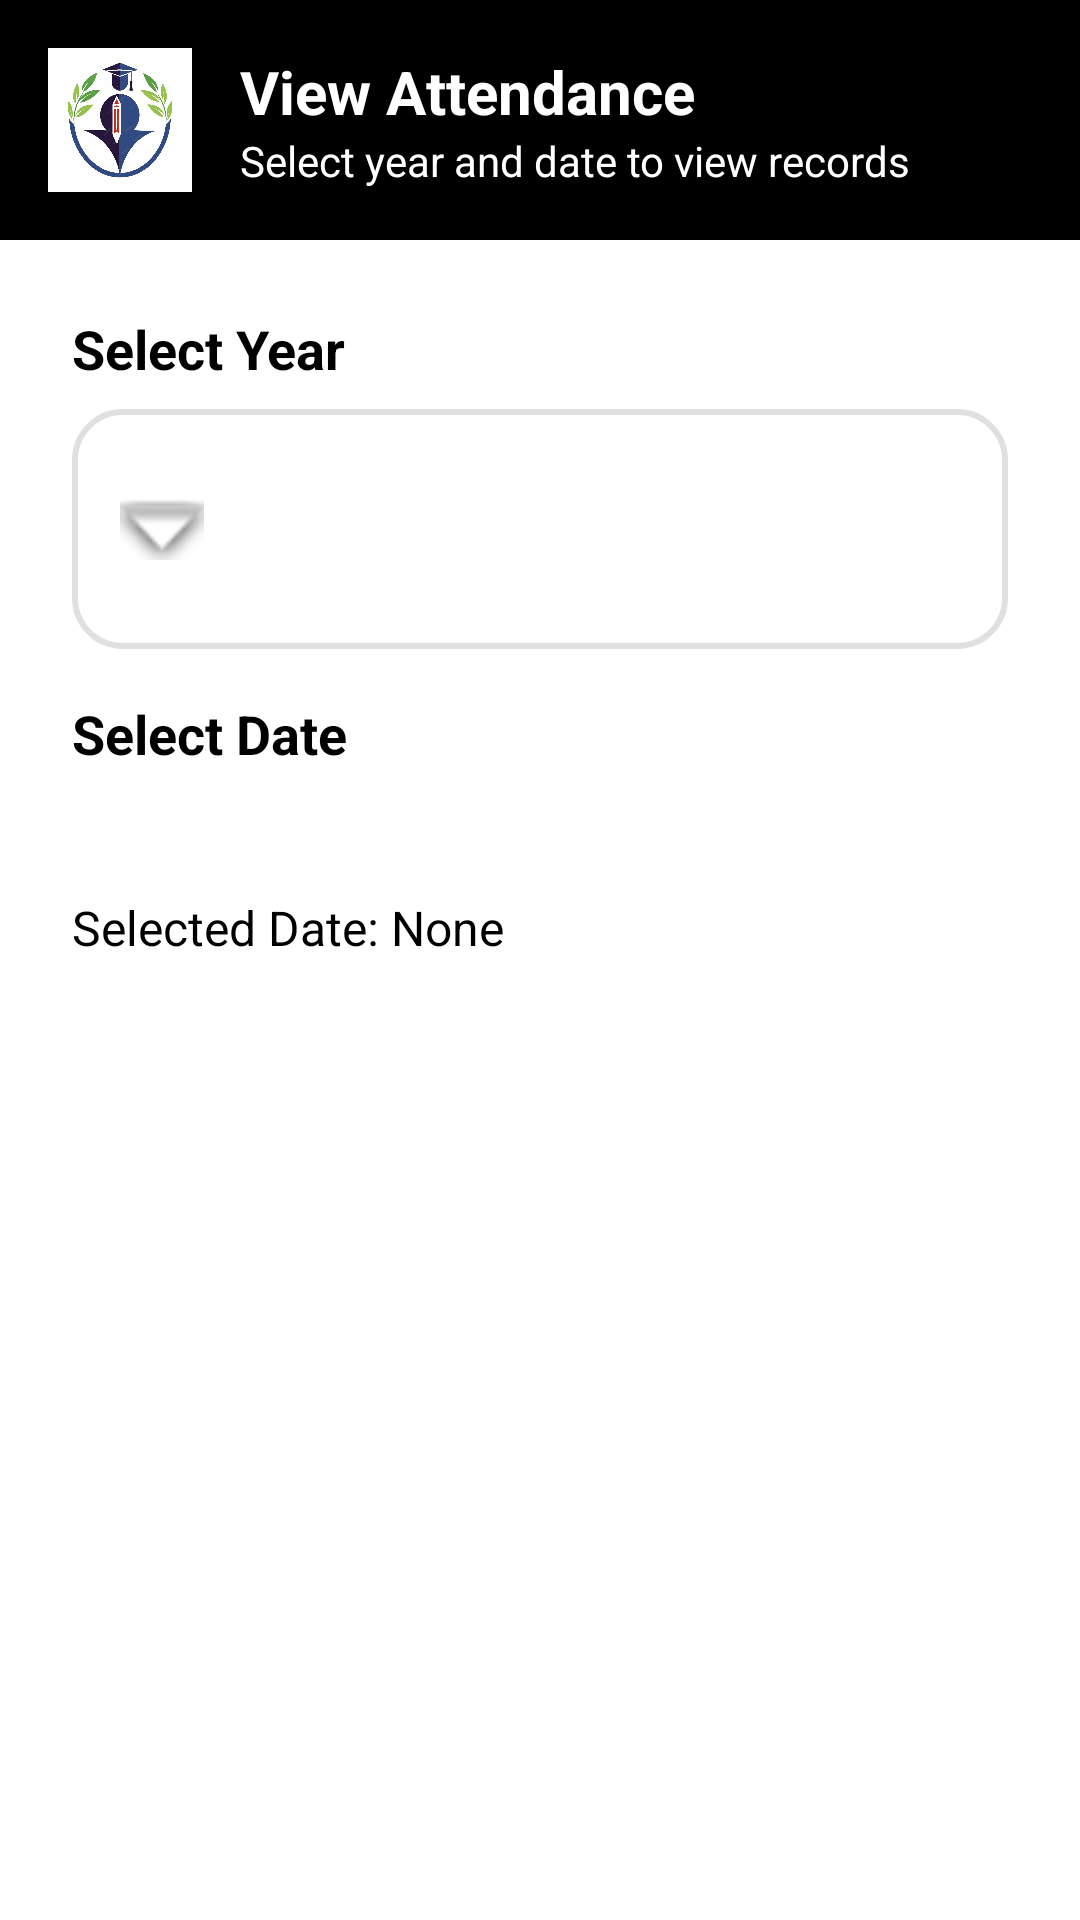

Screen size 1080*1920. Icon name, then its box in pixels as (x1, y1, x2, y2):
arrow down float: (120, 501, 204, 558)
